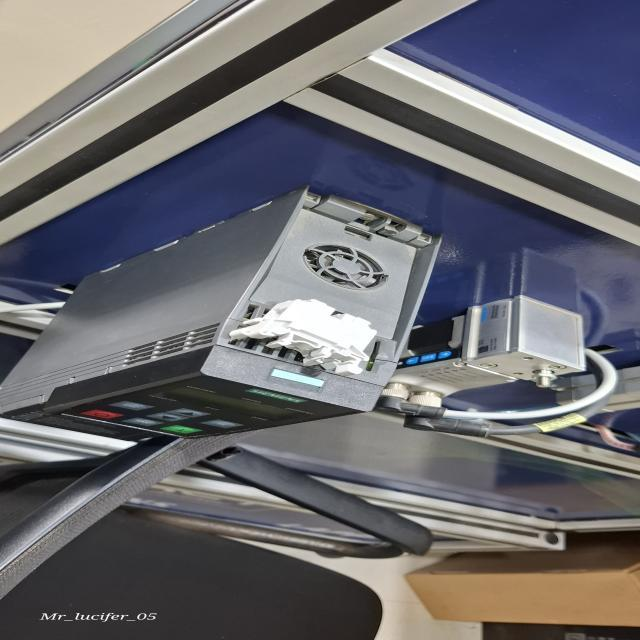Inverted: (227, 296, 383, 378)
